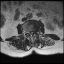CCS_normal: (30, 29, 32, 38)
LFS_severe_stenosis: (34, 29, 36, 34)
LLS_stenosis: (32, 29, 34, 35)
RFS_normal: (26, 29, 28, 35)
RLS_normal: (28, 29, 30, 36)
